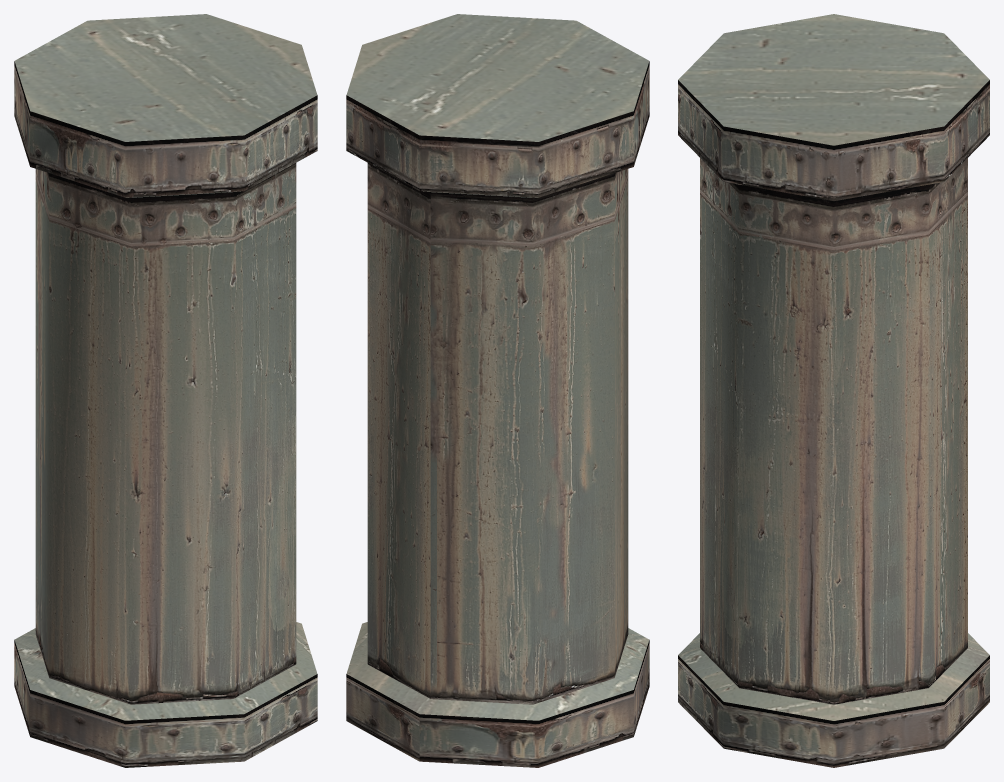
File: pipe_short.fbx
3 views of the same model, side by side, from view 1: azimuth 30°, elevation 25°; view 2: azimuth 150°, elevation 25°; view 3: azimuth 270°, elevation 25° (orthographic).
Visible parts, largest first — view 1: Mesh Object; view 2: Mesh Object; view 3: Mesh Object.
Boxes of the visible parts, left/top/right/bottom form: Mesh Object: left=14, top=14, right=317, bottom=767; Mesh Object: left=346, top=14, right=649, bottom=767; Mesh Object: left=678, top=14, right=989, bottom=767.
Bounding box in the file's own units: 0.7284 × 1.6 × 0.7284.
